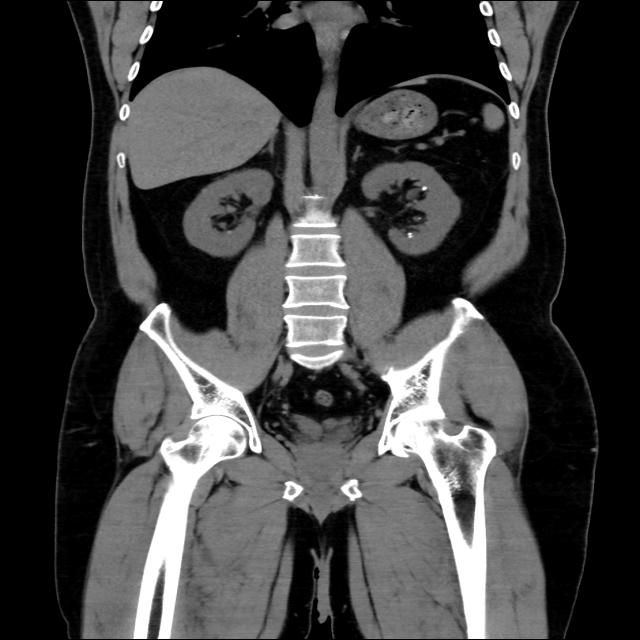kidneystone: (406, 231, 413, 239), (422, 186, 430, 191)
